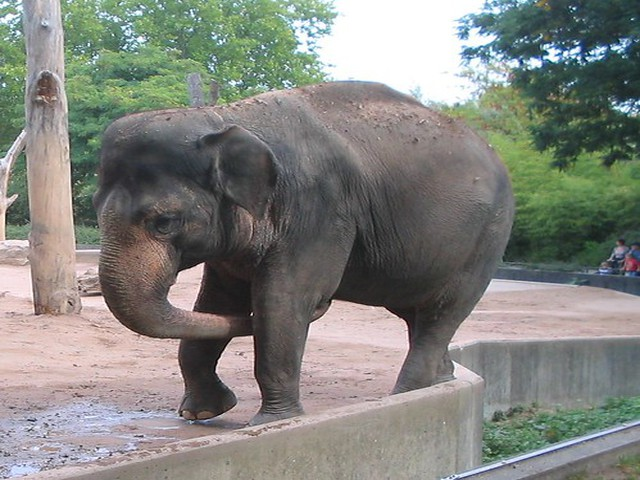Elephant: (93, 75, 521, 424)
Person: (598, 238, 638, 275)
